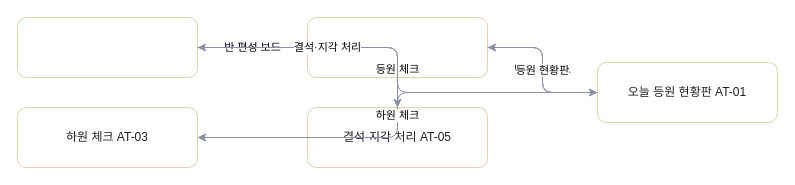
This 795x185 diagram has some shape labels left out. The centre of each missing label's shape, as x and y in pixels:
등원 체크 AT-02: the point at 107,47
반 편성 보드 AT-04: the point at 397,47
